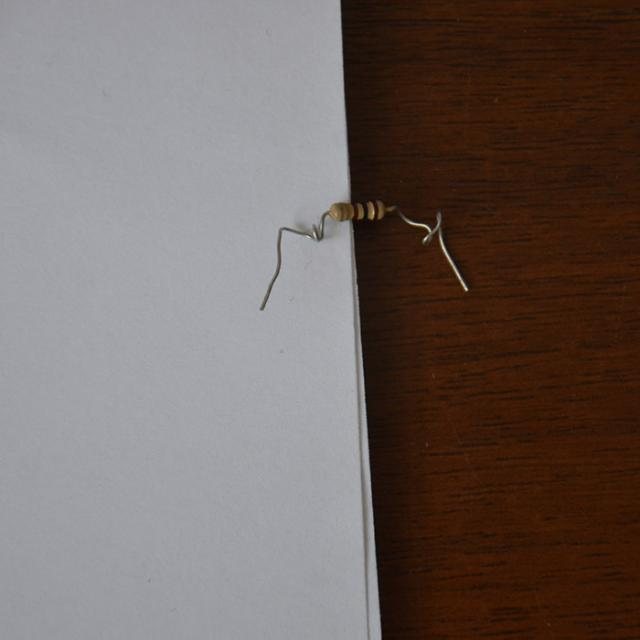Resistor Carbon-Film: (327, 197, 385, 224)
